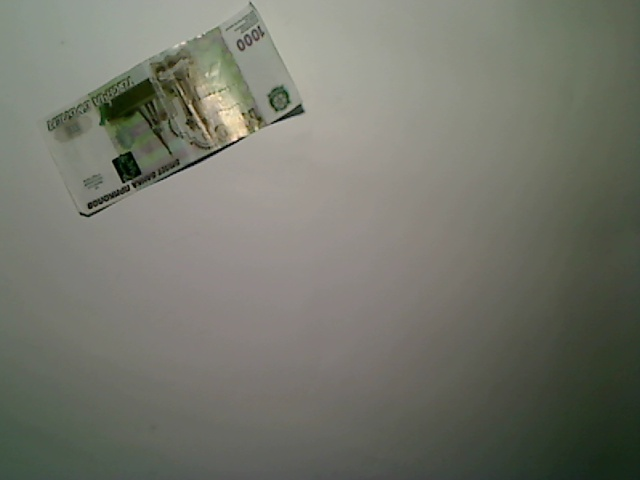banknotes: (34, 1, 309, 223)
